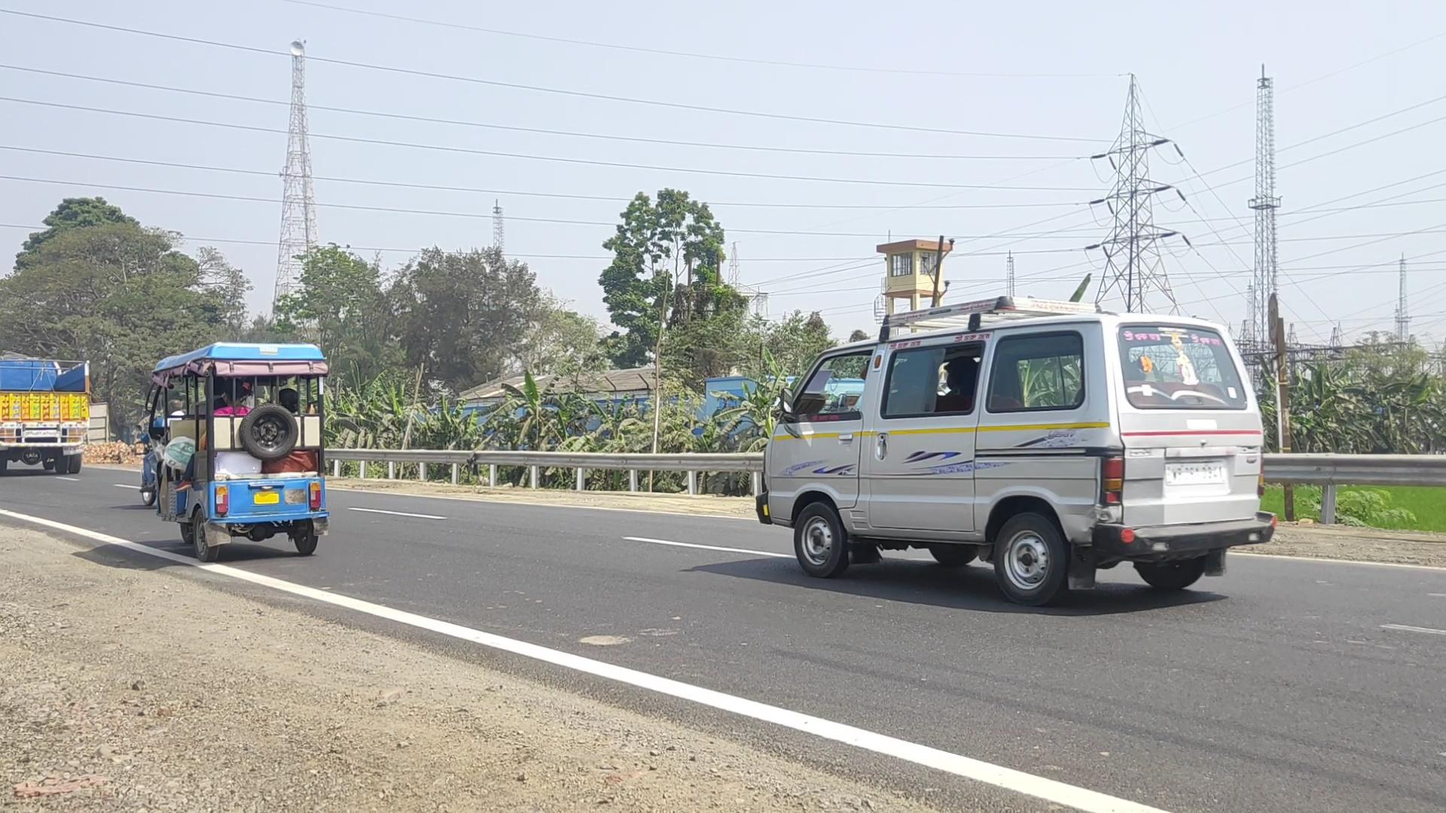Auto: (145, 343, 331, 563)
truck: (1, 354, 91, 477)
van: (754, 295, 1277, 606)
